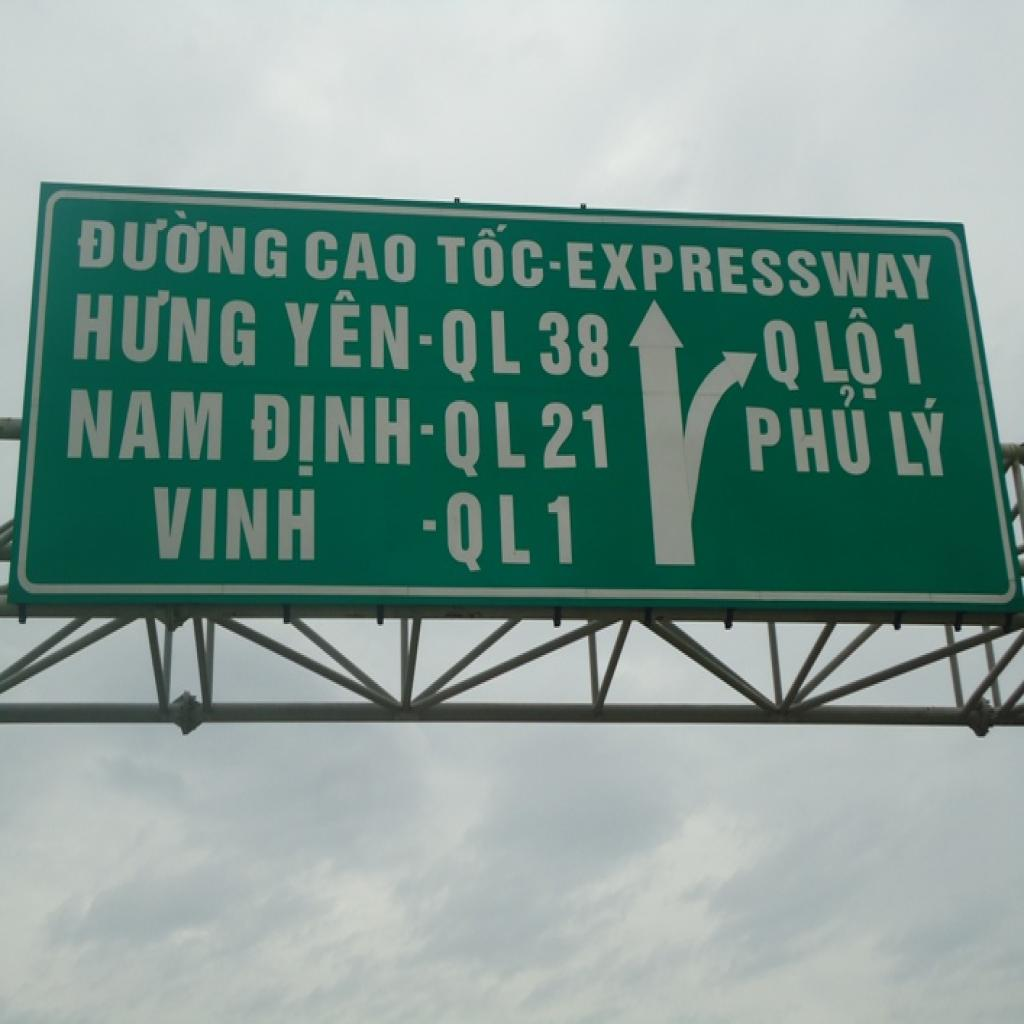text: (565, 238, 938, 305), (72, 203, 292, 286), (70, 286, 259, 371), (248, 390, 414, 483), (146, 483, 319, 570), (738, 385, 874, 481), (67, 386, 226, 468), (280, 286, 416, 379), (434, 218, 549, 294), (302, 226, 422, 292), (811, 305, 888, 406), (443, 491, 536, 574), (443, 398, 529, 487), (439, 304, 524, 386), (533, 304, 616, 382), (879, 392, 950, 483), (536, 400, 614, 477), (759, 319, 807, 396), (890, 321, 926, 392), (422, 516, 440, 537), (420, 421, 437, 441), (419, 332, 436, 350), (550, 257, 564, 274)
